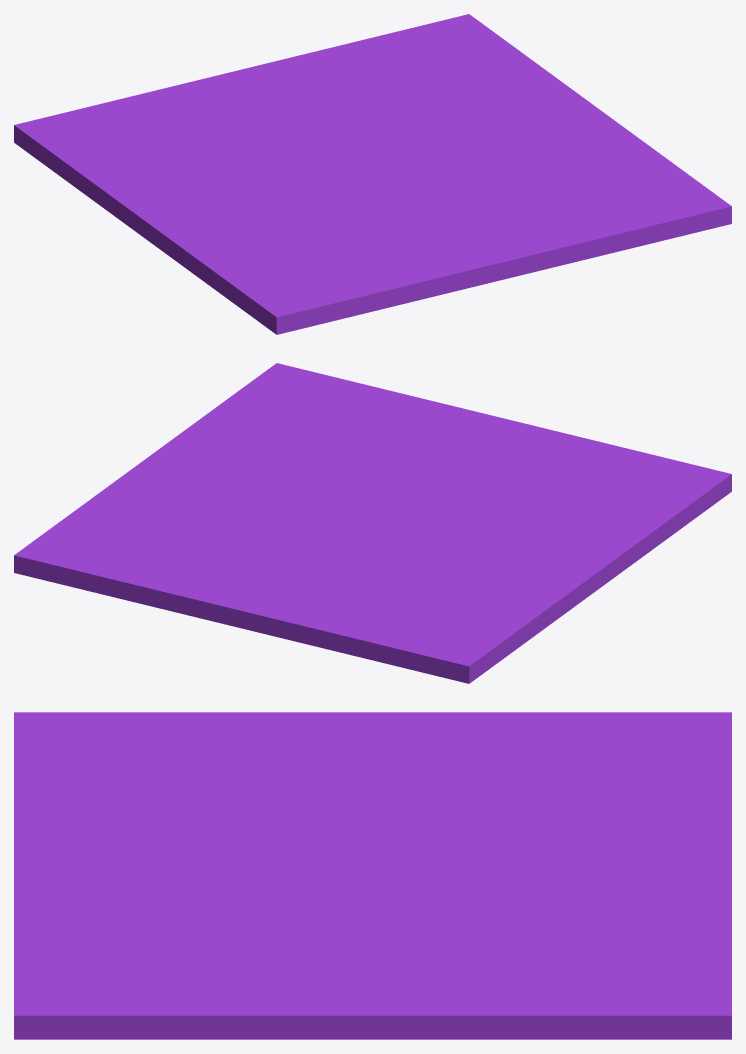
Rendered from Platform_58_chunks.fbx.
3 views of the same model, one above another, from view 1: azimuth 30°, elevation 25°; view 2: azimuth 150°, elevation 25°; view 3: azimuth 270°, elevation 25° (orthographic). The views are drawn at different scales.
Visible parts, largest first — view 1: Platform_58_8, Platform_58_6, Platform_58_4, Platform_58_3, Platform_58_1, Platform_58_13, Platform_58_9, Platform_58_5, Platform_58_10, Platform_58_18, Platform_58_2, Platform_58_20 (+5 smaller); view 2: Platform_58_4, Platform_58_8, Platform_58_6, Platform_58_3, Platform_58_1, Platform_58_13, Platform_58_9, Platform_58_10, Platform_58_5, Platform_58_18, Platform_58_2, Platform_58_20 (+5 smaller); view 3: Platform_58_8, Platform_58_4, Platform_58_6, Platform_58_3, Platform_58_1, Platform_58_20, Platform_58_9, Platform_58_5, Platform_58_18, Platform_58_13, Platform_58_2, Platform_58_19 (+7 smaller).
Boxes of the visible parts, x1,y1,x2,y2 form: Platform_58_8: (451,164,731,270); Platform_58_6: (231,225,538,334); Platform_58_4: (238,14,514,122); Platform_58_3: (108,70,355,163); Platform_58_1: (173,189,320,304); Platform_58_13: (87,161,216,258); Platform_58_9: (274,188,452,247); Platform_58_5: (313,117,526,164); Platform_58_10: (14,112,141,203); Platform_58_18: (497,128,676,166); Platform_58_2: (229,153,370,206); Platform_58_20: (481,48,619,124); Platform_58_4: (14,520,314,629); Platform_58_8: (222,363,471,483); Platform_58_6: (454,410,731,521); Platform_58_3: (245,527,436,661); Platform_58_1: (484,507,690,567); Platform_58_13: (472,544,635,622); Platform_58_9: (380,456,590,514); Platform_58_10: (401,601,551,683); Platform_58_5: (246,458,370,558); Platform_58_18: (172,403,293,476); Platform_58_2: (356,513,493,565); Platform_58_20: (60,444,197,521); Platform_58_8: (14,863,316,1039); Platform_58_4: (474,861,731,1039); Platform_58_6: (14,712,210,885); Platform_58_3: (419,774,731,863); Platform_58_1: (138,712,404,809); Platform_58_20: (308,976,606,1030); Platform_58_9: (153,758,327,887); Platform_58_5: (269,863,534,941); Platform_58_18: (155,936,365,1032); Platform_58_13: (277,712,542,761); Platform_58_2: (293,776,472,863); Platform_58_19: (330,923,555,980).
Bounding box in the file's own units: 810 × 29.87 × 810.
